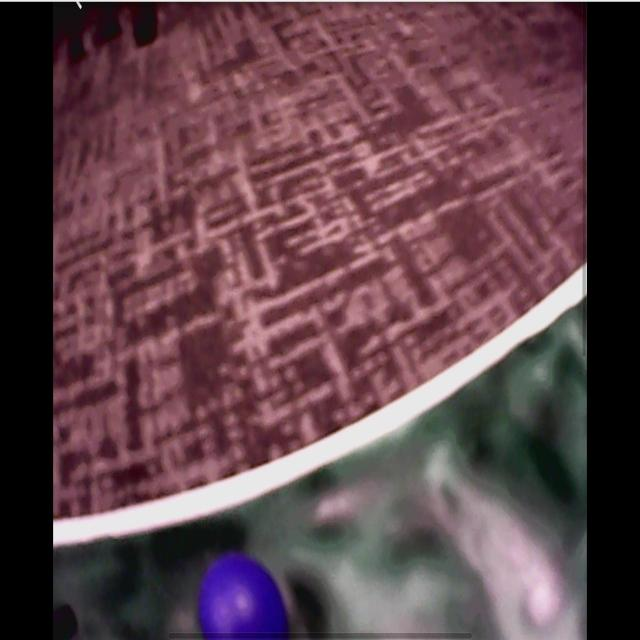ball: (200, 553, 289, 640)
